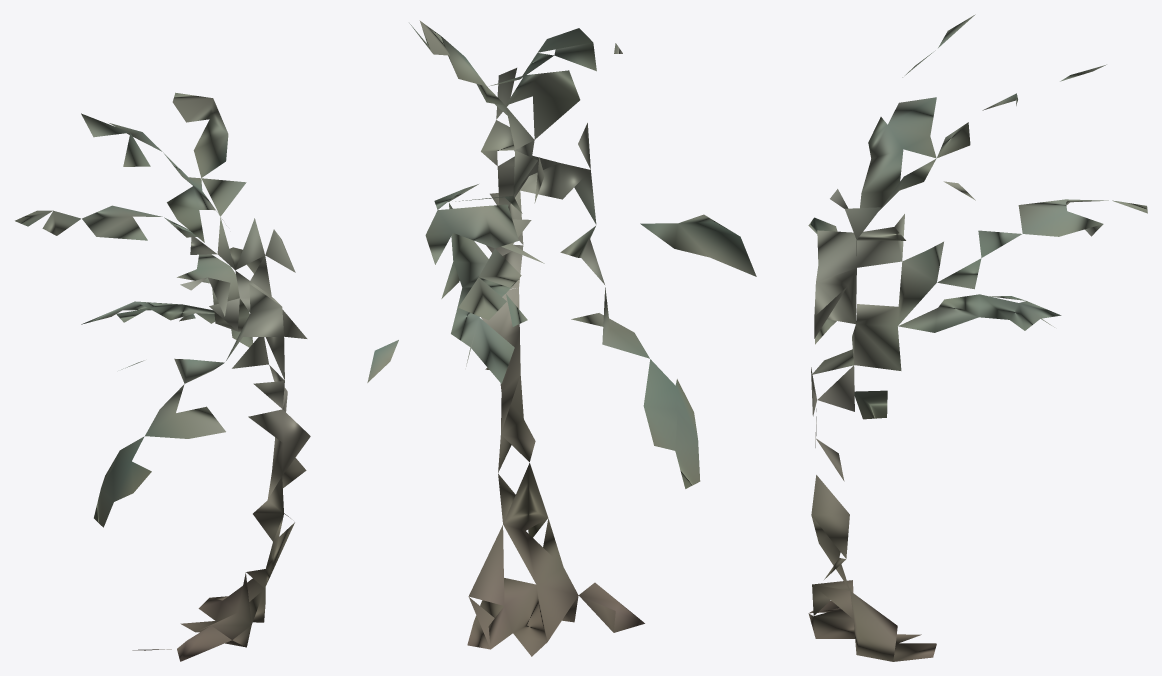
File: verdant_palm_hero_v130_part1.gltf
3 renders of one model, left to right at view 1: azimuth 30°, elevation 25°; view 2: azimuth 150°, elevation 25°; view 3: azimuth 270°, elevation 25°, orthographic. The views are drawn at different scales.
Parts seen in each view (by area): view 1: verdant_palm_hero_v130Part1; view 2: verdant_palm_hero_v130Part1; view 3: verdant_palm_hero_v130Part1.
Boxes of the visible parts, left/top/right/bottom form: verdant_palm_hero_v130Part1: left=15, top=92, right=310, bottom=661; verdant_palm_hero_v130Part1: left=367, top=20, right=756, bottom=656; verdant_palm_hero_v130Part1: left=808, top=14, right=1147, bottom=661.
Size of the model in its own units: 0.4183 by 0.9461 by 0.4817.
